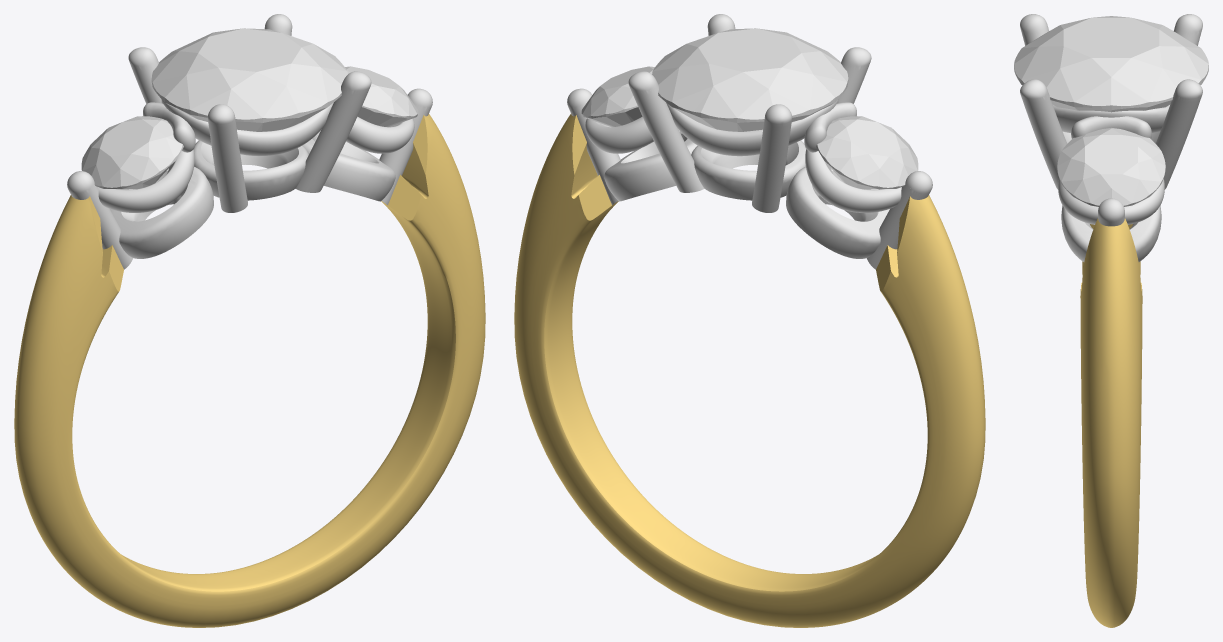
File: SamFreedman_NewDiaV3.glb
The picture shows the model from 3 angles, left to right: view 1: azimuth 30°, elevation 25°; view 2: azimuth 150°, elevation 25°; view 3: azimuth 270°, elevation 25°; orthographic projection.
Visible parts, largest first — view 1: Sam v3 YG for 3d model, Sam v3 PT for 3d model, sam new dia for 3d model.001, sam new dia for 3d model, sam new dia for 3d model.002; view 2: Sam v3 YG for 3d model, Sam v3 PT for 3d model, sam new dia for 3d model.001, sam new dia for 3d model, sam new dia for 3d model.002; view 3: Sam v3 YG for 3d model, sam new dia for 3d model.001, Sam v3 PT for 3d model, sam new dia for 3d model.002.
Boxes of the visible parts, left/top/right/bottom form: Sam v3 YG for 3d model: left=14, top=114, right=485, bottom=627; Sam v3 PT for 3d model: left=67, top=14, right=432, bottom=269; sam new dia for 3d model.001: left=151, top=28, right=347, bottom=131; sam new dia for 3d model: left=81, top=116, right=183, bottom=189; sam new dia for 3d model.002: left=345, top=66, right=418, bottom=127; Sam v3 YG for 3d model: left=514, top=114, right=985, bottom=627; Sam v3 PT for 3d model: left=567, top=14, right=932, bottom=269; sam new dia for 3d model.001: left=652, top=28, right=848, bottom=131; sam new dia for 3d model: left=816, top=116, right=918, bottom=189; sam new dia for 3d model.002: left=581, top=66, right=654, bottom=127; Sam v3 YG for 3d model: left=1080, top=218, right=1142, bottom=627; sam new dia for 3d model.001: left=1014, top=16, right=1208, bottom=112; Sam v3 PT for 3d model: left=1020, top=14, right=1202, bottom=261; sam new dia for 3d model.002: left=1057, top=128, right=1165, bottom=206.
Bounding box in the file's own units: 19.7 × 23.05 × 7.2.
